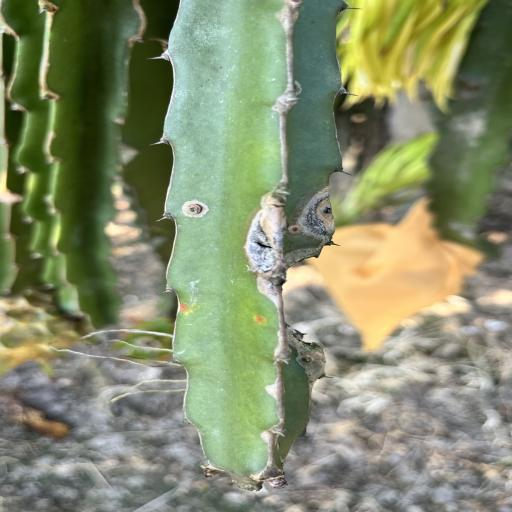stemcanker: (180, 197, 223, 224), (239, 309, 283, 331), (175, 199, 216, 222), (281, 220, 315, 242), (180, 299, 206, 316), (173, 302, 192, 319), (288, 224, 305, 242), (294, 354, 318, 366), (249, 312, 269, 326), (180, 301, 202, 313), (253, 313, 269, 329), (177, 301, 195, 314), (286, 223, 304, 233), (252, 315, 266, 327), (178, 302, 190, 314), (254, 314, 268, 324)
